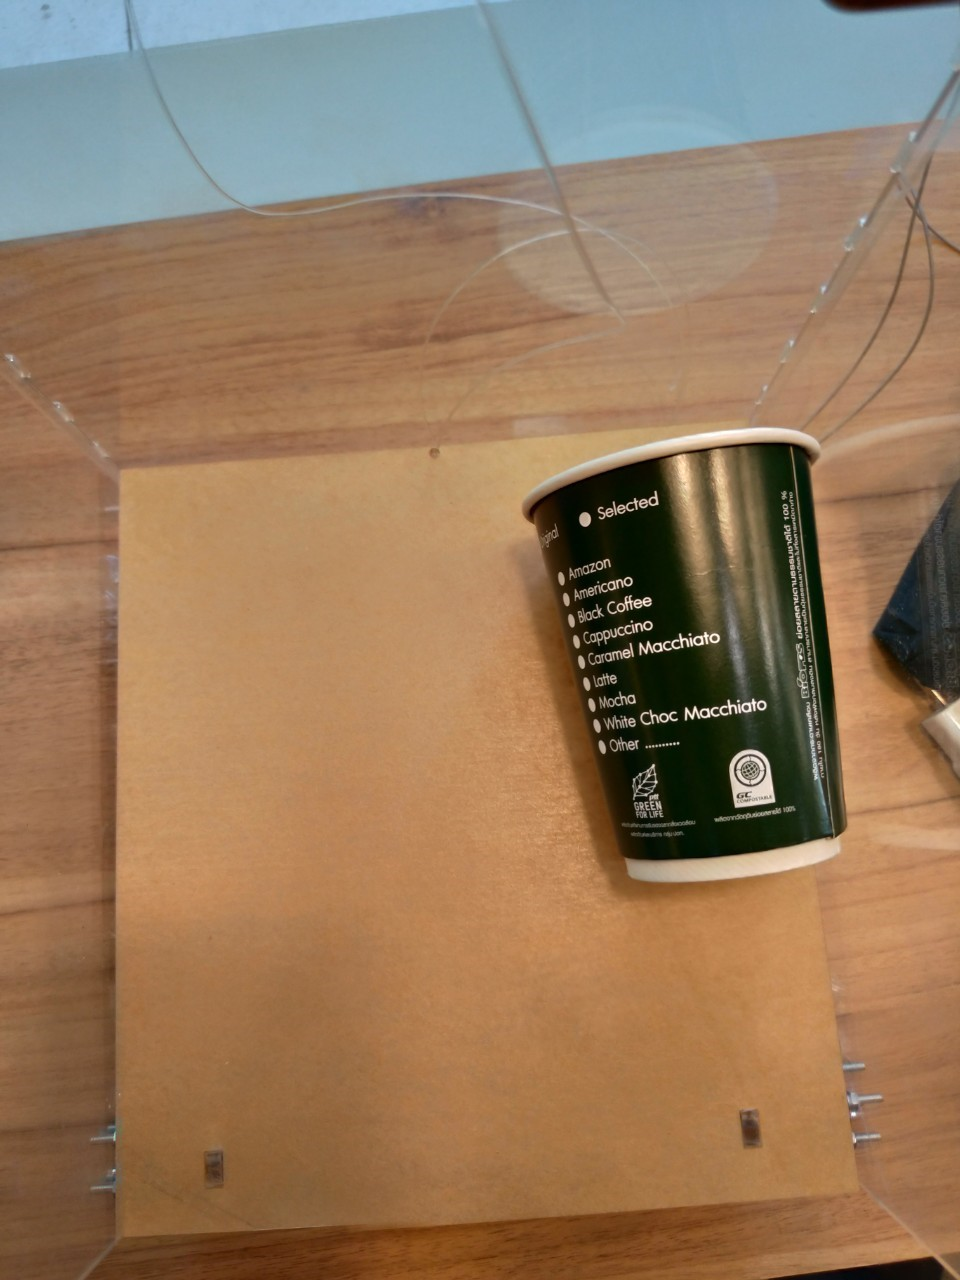PaperCup: (520, 427, 847, 886)
